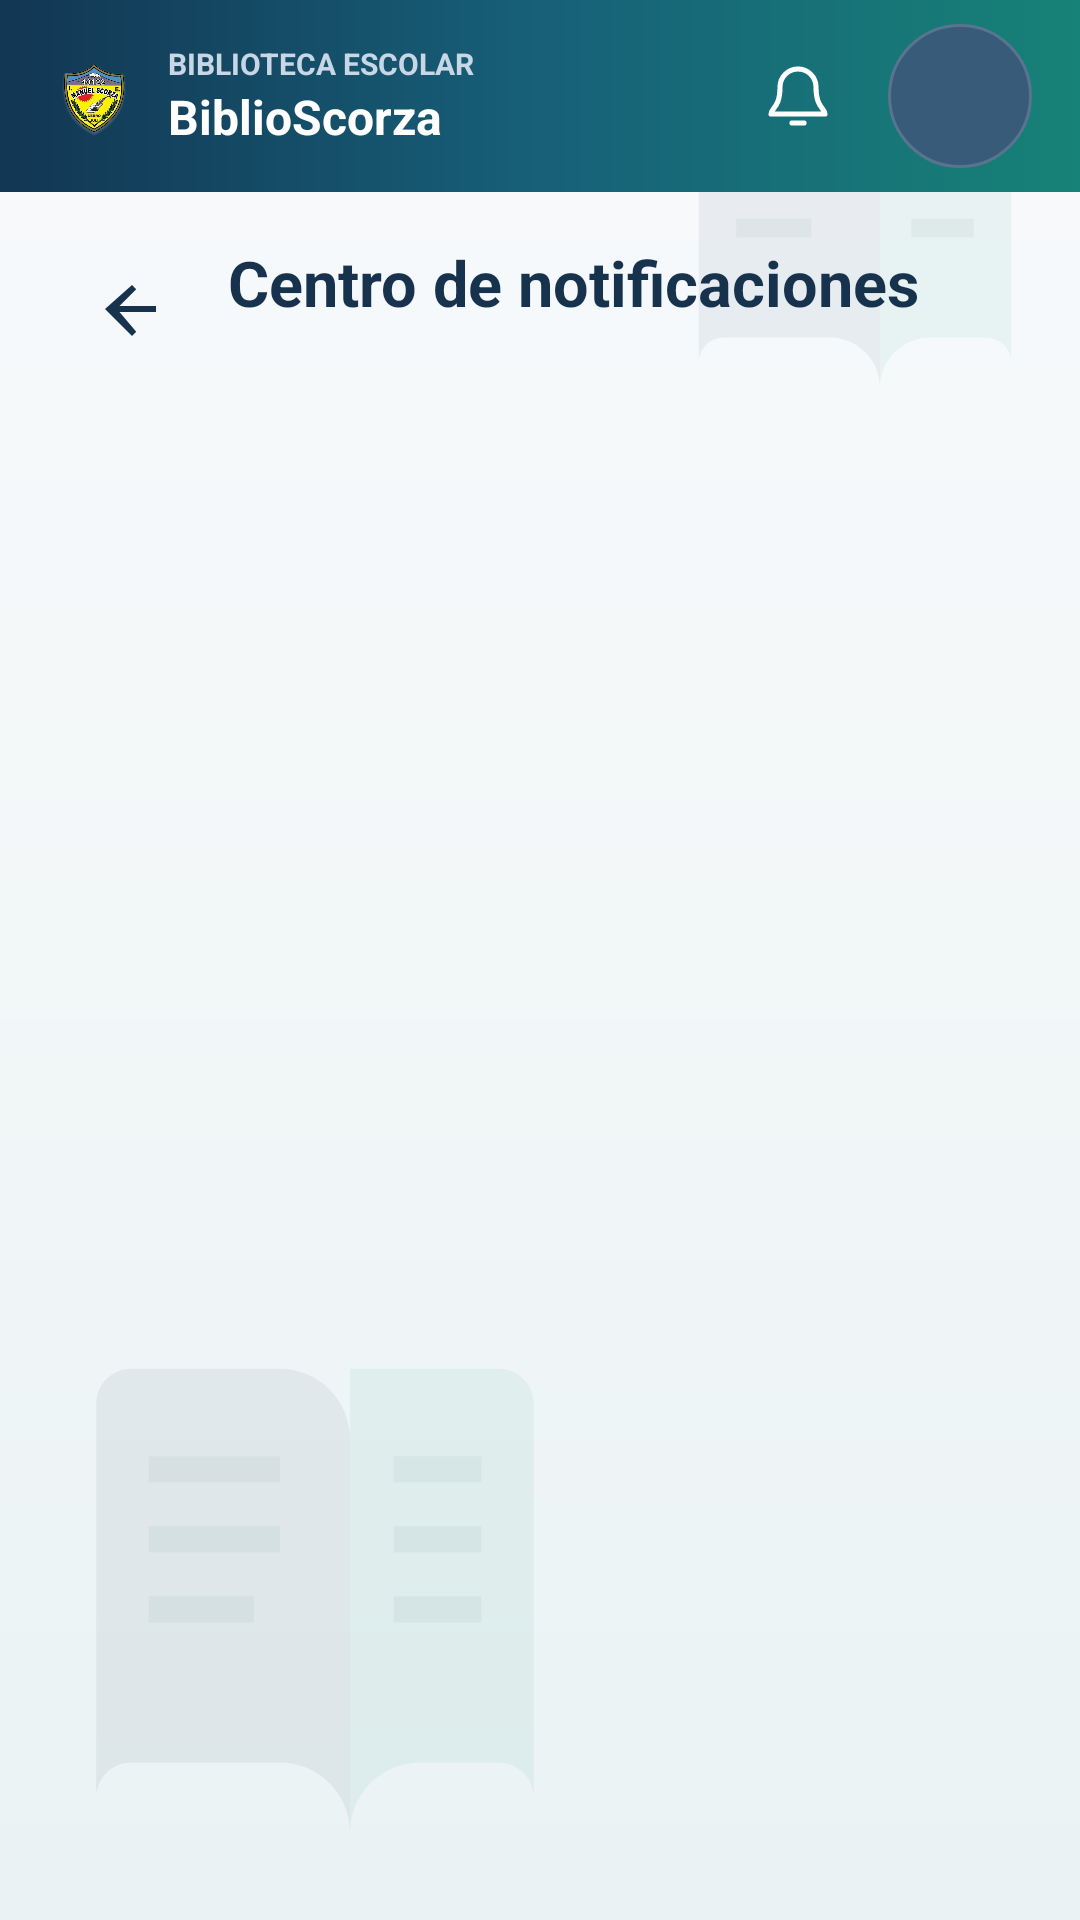

Locate icon controls on the screen. Image size 1080×1920, boxes as (x1, y1, x2, y2).
notifications: (768, 66, 828, 126)
Volver: (105, 285, 156, 336)
